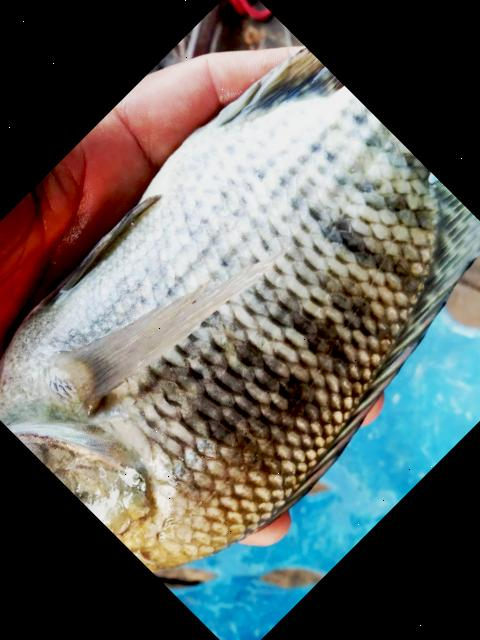Columnaris Disease: (0, 47, 480, 571)
